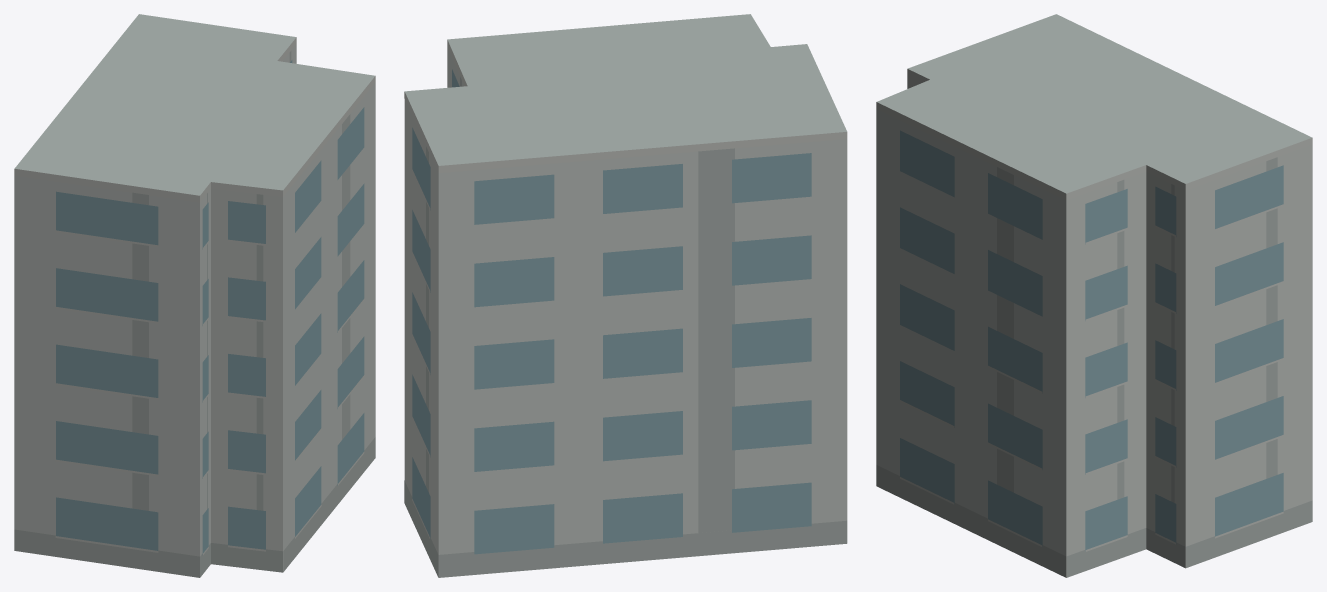
File: survey-upis-32998663.glb
The picture shows the model from 3 angles, left to right: view 1: azimuth 30°, elevation 25°; view 2: azimuth 150°, elevation 25°; view 3: azimuth 270°, elevation 25°; orthographic projection. The views are drawn at different scales.
Visible parts, largest first — view 1: survey-upis-32998663.tmp; view 2: survey-upis-32998663.tmp; view 3: survey-upis-32998663.tmp.
Part boxes in pixels (x1,y1,x2,y2): survey-upis-32998663.tmp: [14, 14, 375, 577]; survey-upis-32998663.tmp: [404, 14, 847, 577]; survey-upis-32998663.tmp: [876, 14, 1312, 577].
Bounding box in the file's own units: 13.94 × 13.9 × 14.3.
